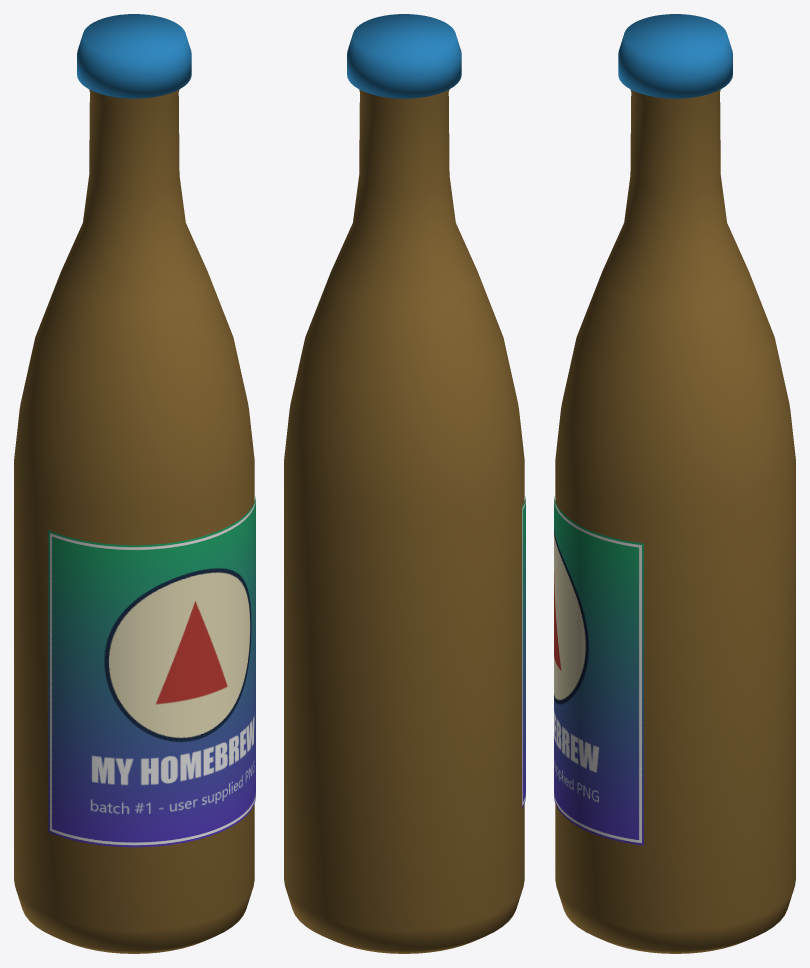
The model's file is beer_userimg_low.glb.
3 renders of one model, left to right at view 1: azimuth 30°, elevation 25°; view 2: azimuth 150°, elevation 25°; view 3: azimuth 270°, elevation 25°, orthographic.
Parts seen in each view (by area): view 1: Glass, Labels, Cap; view 2: Glass, Cap, Labels; view 3: Glass, Labels, Cap.
Part boxes in pixels (x1,y1,x2,y2): Glass: (14, 89, 254, 953); Labels: (48, 496, 255, 847); Cap: (77, 14, 191, 98); Glass: (284, 89, 524, 953); Cap: (347, 14, 461, 98); Labels: (522, 496, 525, 808); Glass: (555, 89, 795, 953); Labels: (554, 496, 643, 845); Cap: (618, 14, 732, 98).
Size of the model in its own units: 0.065 by 0.2615 by 0.0653.
Materials: 4 (1 with a texture image).
